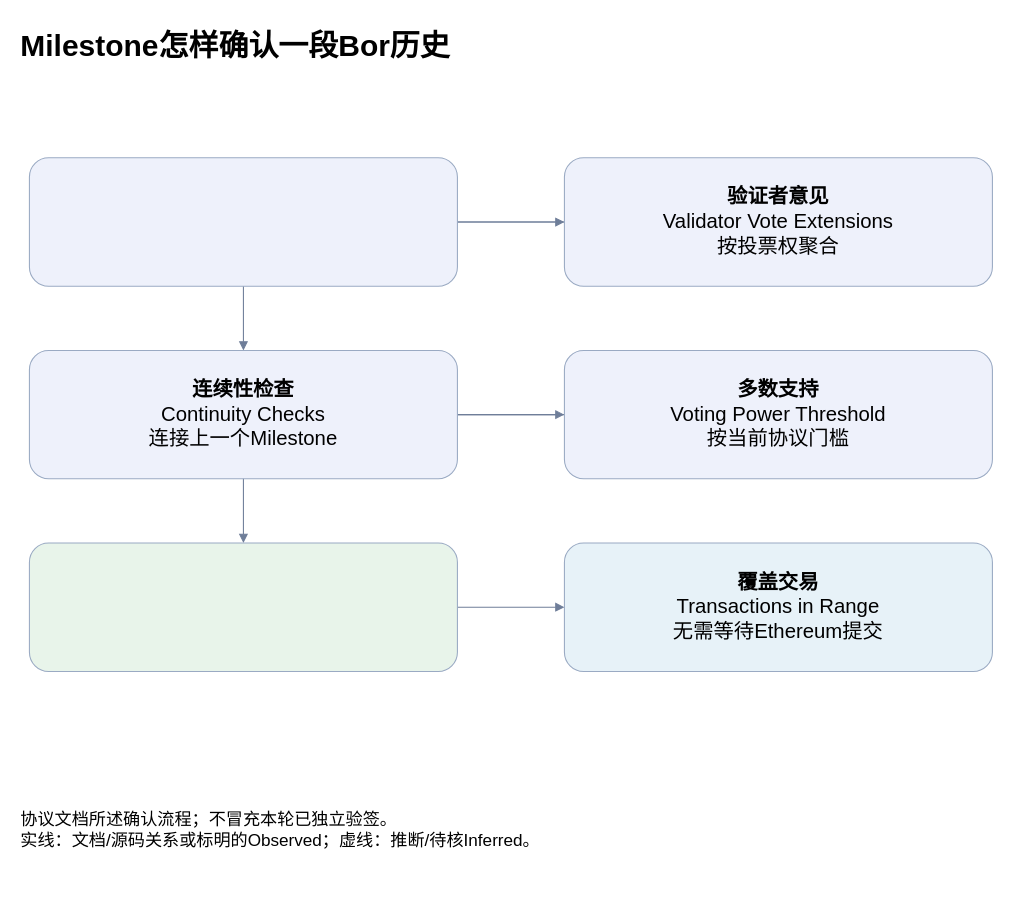
This 1021x908 diagram has some shape labels left out. The shapes that lost their labels are listed below. From the top down, each one's centre as x and y in pixels, then its label:
(x=242, y=221): Bor区块序列 Consecutive Block Hashes 高度与哈希共同定位
(x=242, y=606): 持久化确认 Persisted Milestone 本地最终确认
